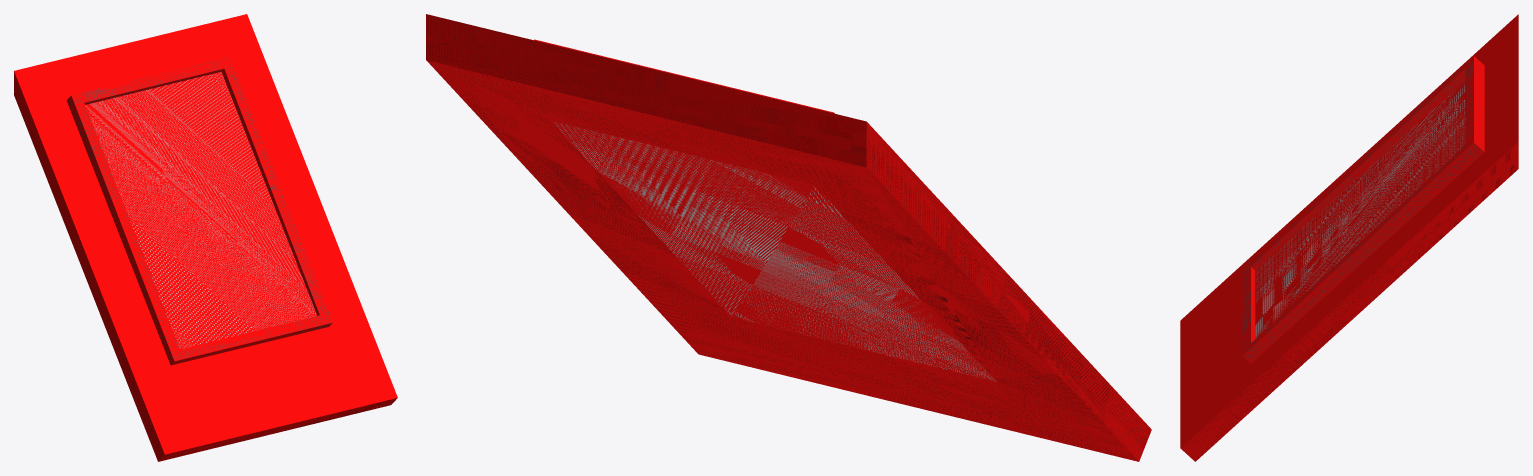
File: roof_skylight_2.fbx
3 renders of one model, left to right at view 1: azimuth 30°, elevation 25°; view 2: azimuth 150°, elevation 25°; view 3: azimuth 270°, elevation 25°, orthographic. The views are drawn at different scales.
Parts seen in each view (by area): view 1: Mesh1_sloped_roof1 Model; view 2: Mesh1_sloped_roof1 Model; view 3: Mesh1_sloped_roof1 Model.
Boxes of the visible parts, bbox=[...] form: Mesh1_sloped_roof1 Model: bbox=[14, 14, 397, 461]; Mesh1_sloped_roof1 Model: bbox=[426, 14, 1151, 461]; Mesh1_sloped_roof1 Model: bbox=[1180, 14, 1518, 461].
Size of the model in its own units: 1 by 1.17 by 1.12.
